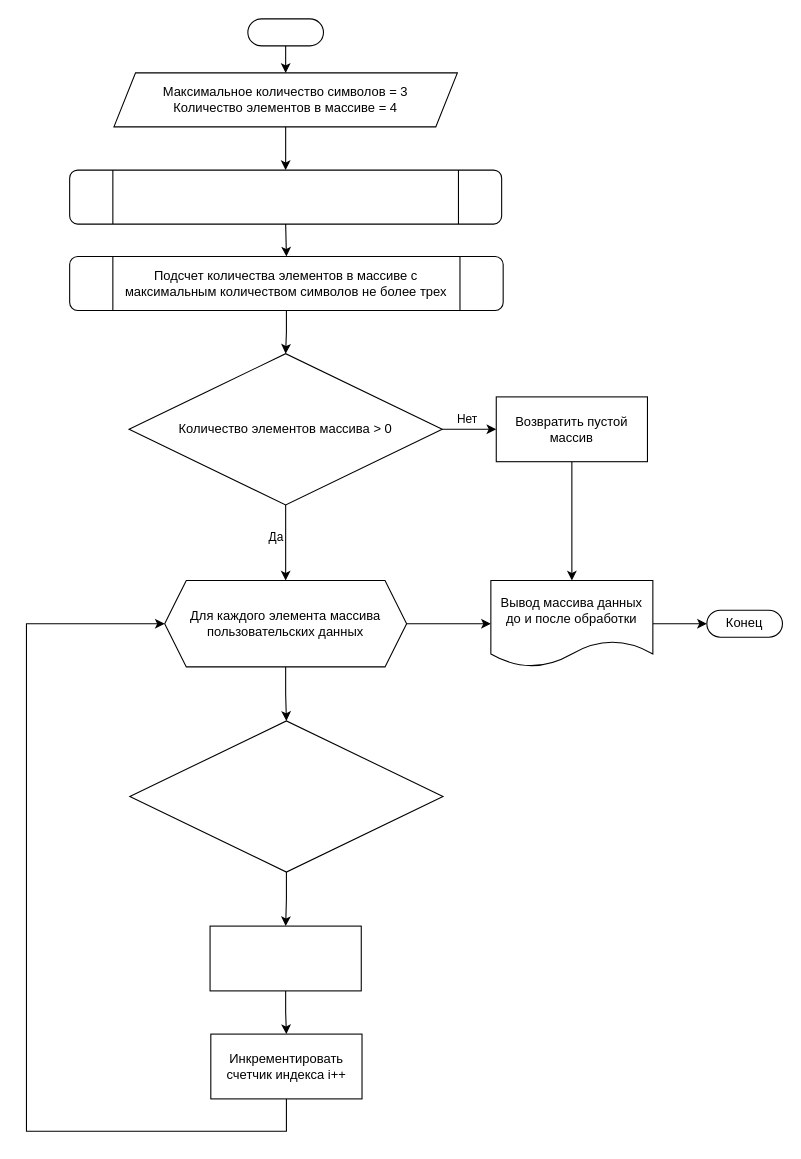
This 801x1159 diagram has some shape labels left out. The box of each missing label's shape, as (x1, y1, x2, y2) in pixels:
Записать элемент в новый массив: (209, 925, 361, 991)
Количество символов элемента массива <= 3: (129, 720, 443, 872)
Начало: (247, 18, 323, 46)
Получение вводных данных от пользователя, обработка, запись в массив: (69, 169, 502, 224)
